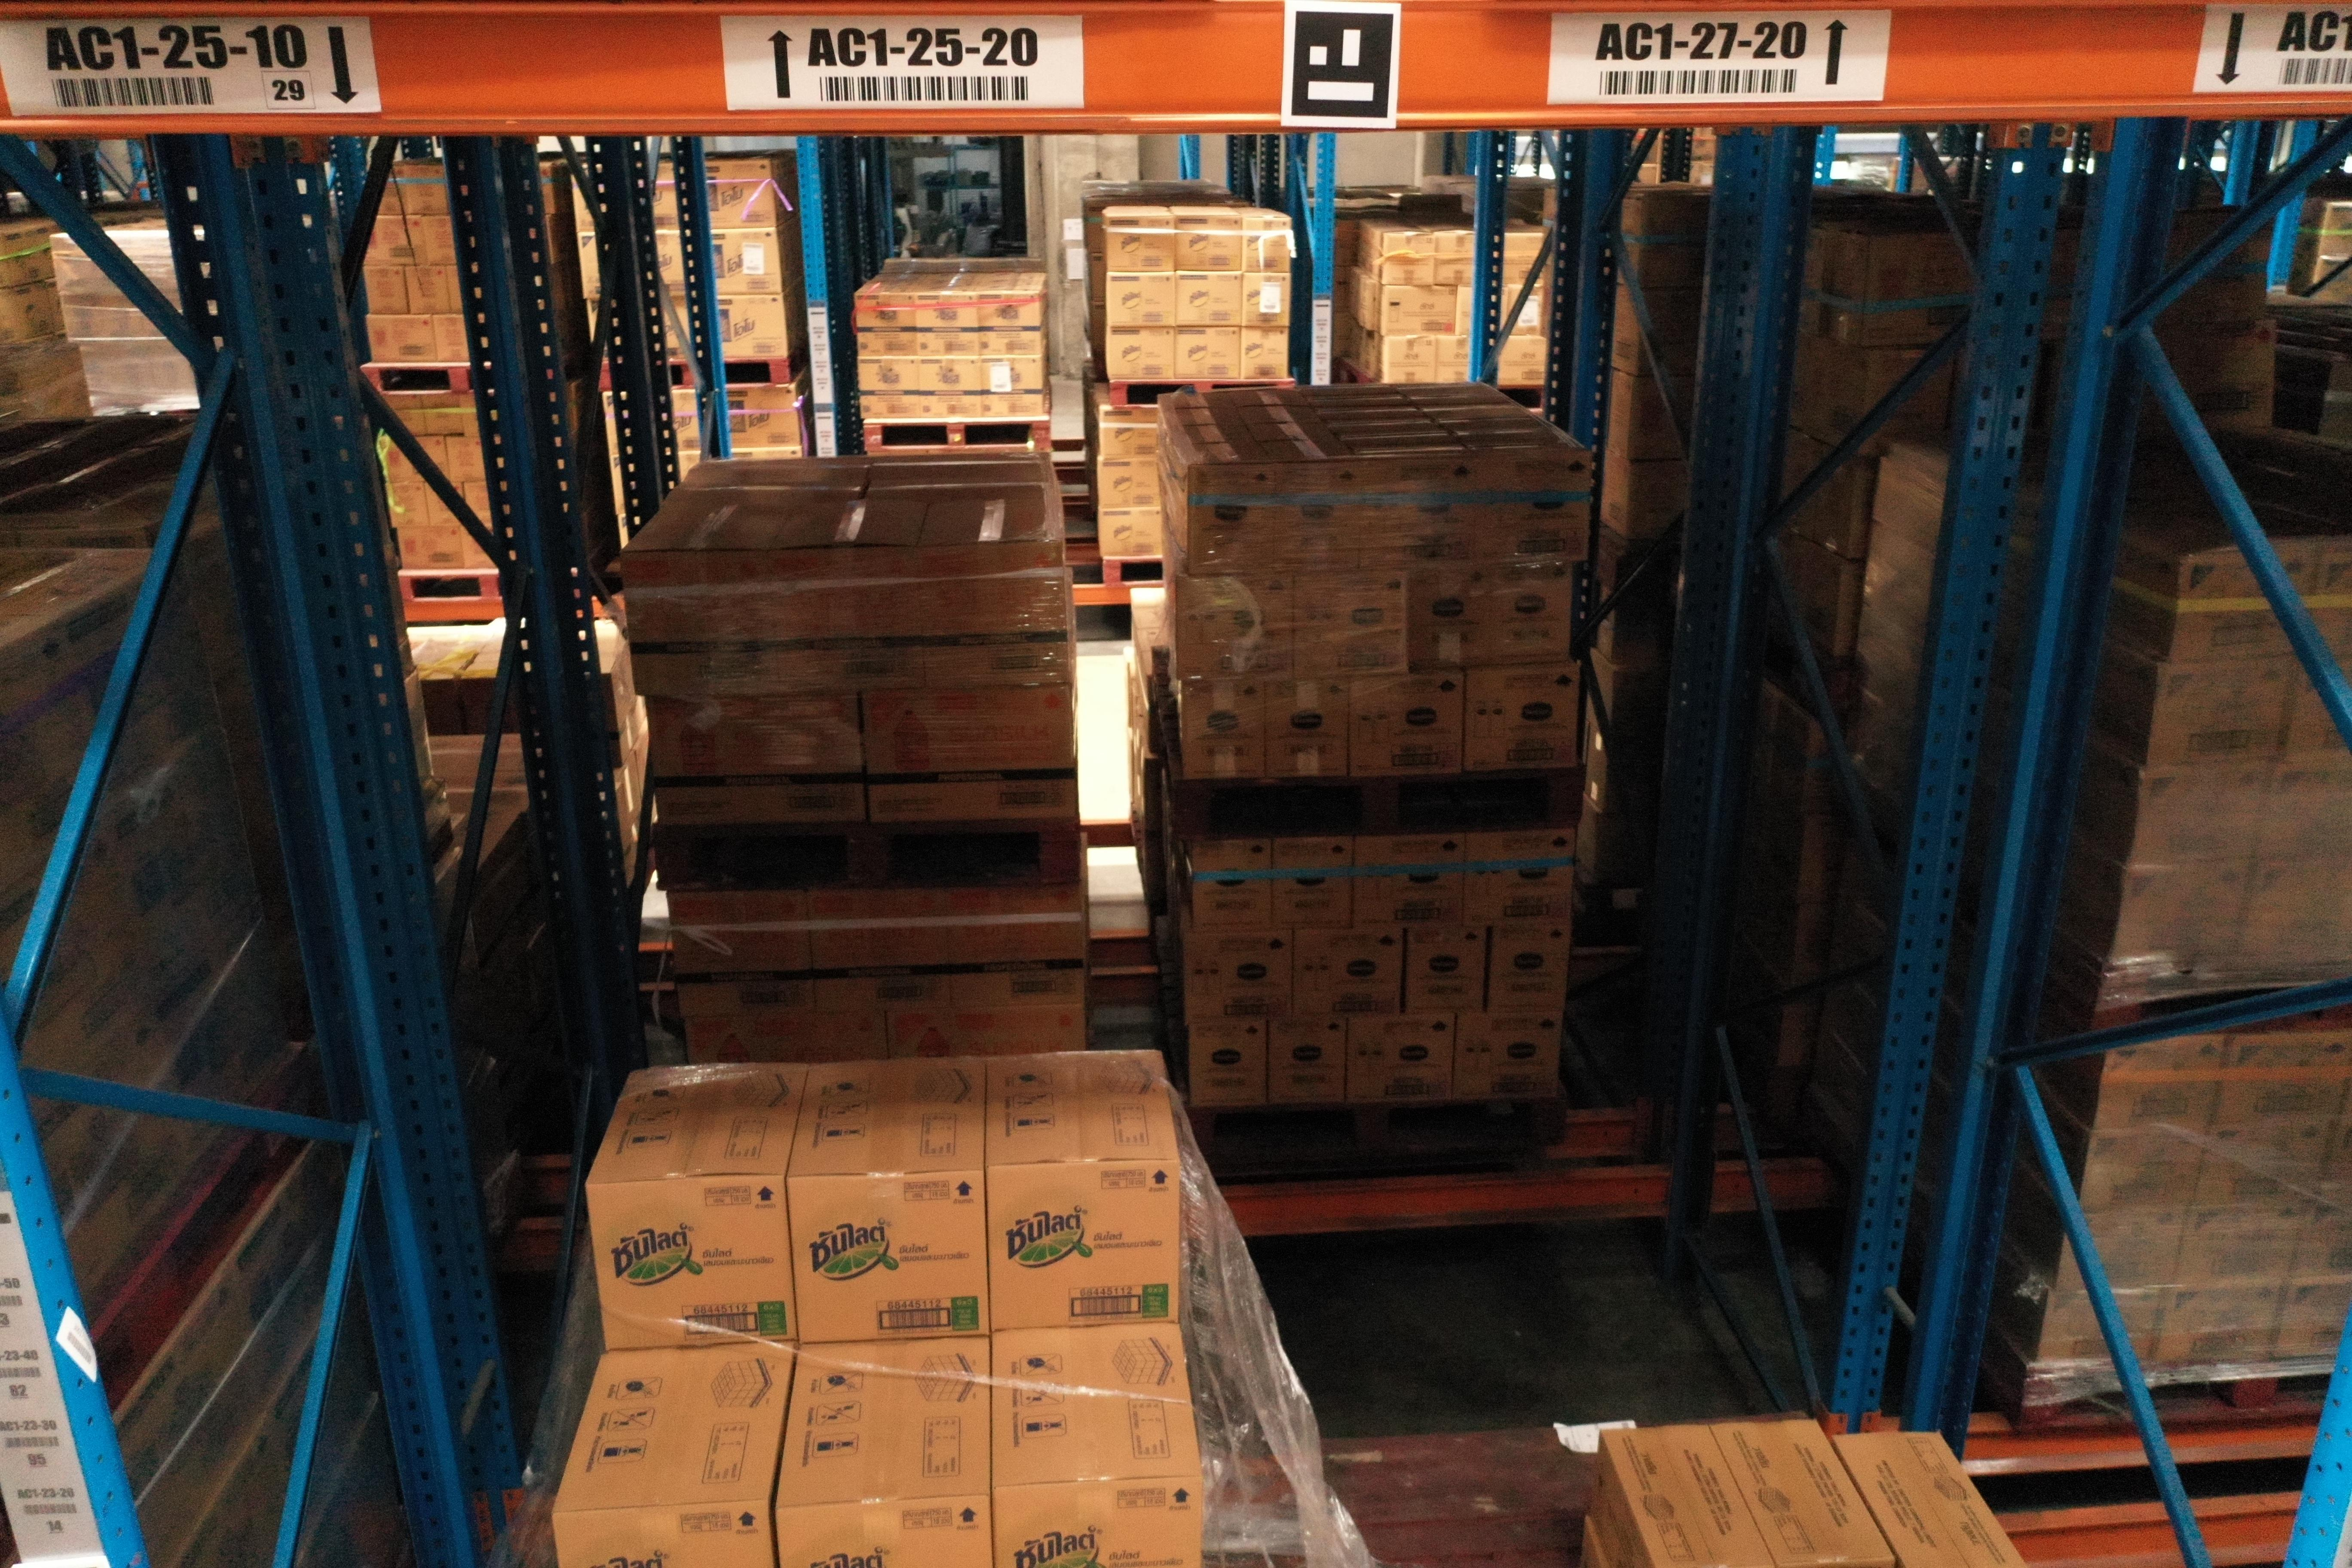-: (583, 1178, 800, 1351), (789, 1169, 992, 1344), (987, 1160, 1179, 1330), (997, 1472, 1207, 1568), (772, 1489, 996, 1568), (549, 1500, 775, 1568)
2: (859, 684, 1078, 826), (647, 691, 868, 822), (766, 542, 927, 695), (621, 548, 784, 698), (915, 537, 1073, 689), (667, 891, 815, 1020), (808, 887, 955, 1015), (950, 891, 1087, 1006), (1472, 448, 1594, 565), (1291, 565, 1409, 681), (1360, 451, 1475, 567), (1176, 570, 1295, 681), (1347, 672, 1465, 779), (1465, 667, 1578, 772), (1463, 828, 1575, 926), (1351, 835, 1465, 927), (1186, 458, 1276, 576), (1183, 929, 1295, 1020), (1291, 927, 1403, 1018), (1405, 562, 1496, 672), (1276, 458, 1361, 570), (1346, 1017, 1454, 1102), (1456, 1015, 1564, 1101), (1181, 679, 1267, 780), (1265, 681, 1349, 779), (1486, 922, 1571, 1017), (1494, 560, 1571, 663), (1190, 840, 1272, 933), (1270, 838, 1354, 927), (1405, 926, 1486, 1017), (1190, 1018, 1269, 1111), (1270, 1018, 1346, 1106)
box: (2170, 548, 2320, 663), (2145, 656, 2292, 772), (2109, 861, 2256, 971), (2089, 1034, 2229, 1134), (2130, 766, 2273, 861), (2212, 1031, 2350, 1129), (2189, 1127, 2333, 1216), (2236, 859, 2350, 968), (2079, 1127, 2210, 1214), (2035, 1286, 2168, 1370), (2152, 1284, 2284, 1368), (2166, 1211, 2308, 1286), (2056, 1211, 2187, 1291), (2257, 756, 2350, 863), (2282, 658, 2350, 761), (2271, 1279, 2352, 1360), (2303, 546, 2350, 658), (2289, 1206, 2352, 1284)
